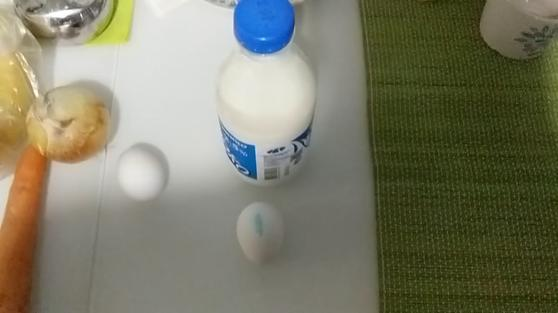carrot: (1, 138, 61, 313)
egg: (114, 141, 173, 204), (231, 197, 288, 262)
milk: (202, 1, 333, 192)
onion: (24, 82, 123, 168)
